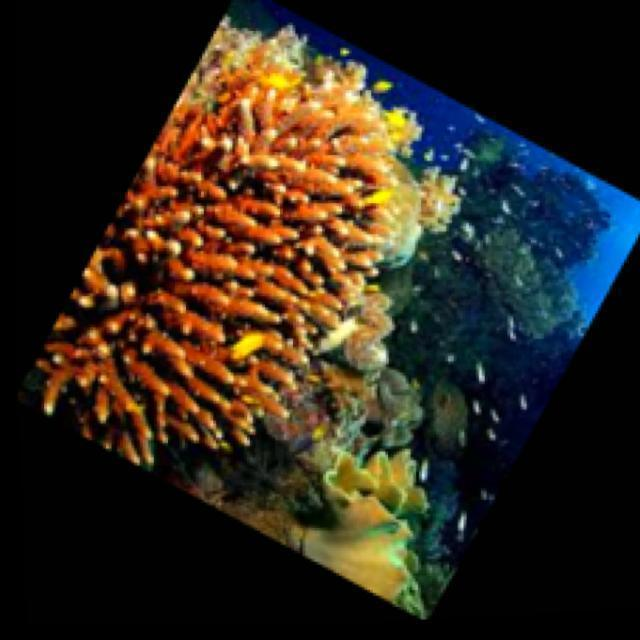Healthy Coral: (93, 42, 365, 501)
